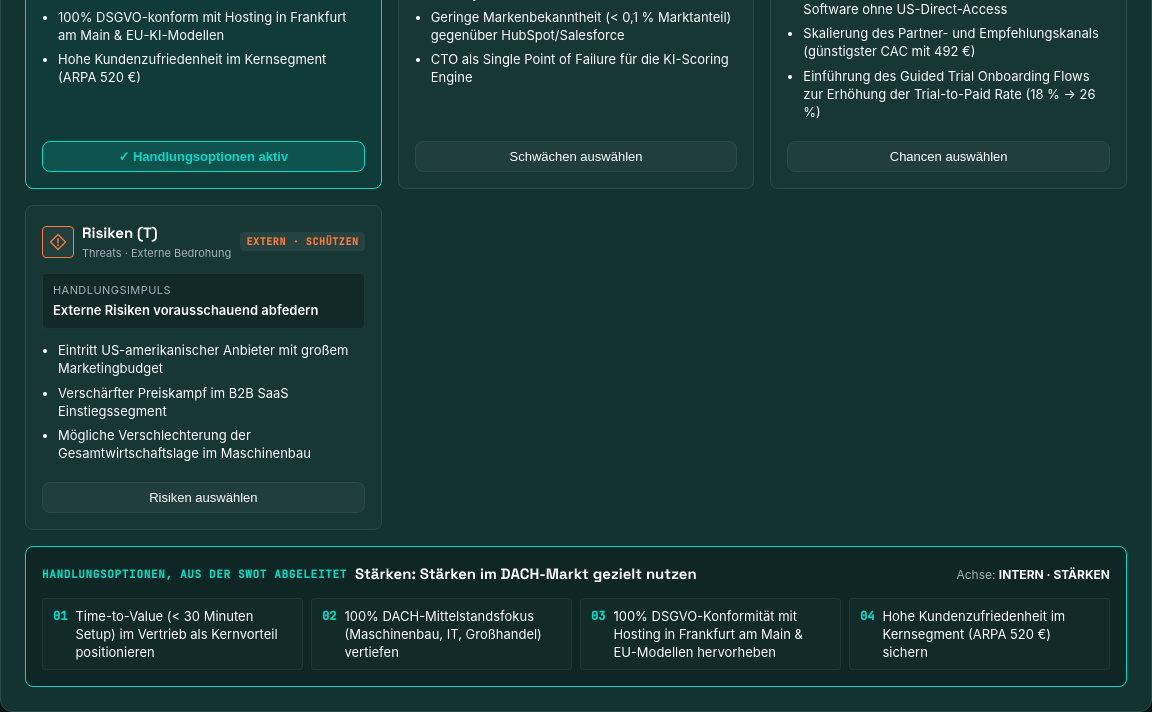
Scenario: SwotCompass (branch) › wechselt die Detailansicht zu Risiken
The width and height of the screenshot is (1152, 712).
(page scrolled)
Click the button with aria-label "Risiken Handlungsoptionen fokussieren".
click(203, 498)  # box x1=42 y1=482 x2=365 y2=513
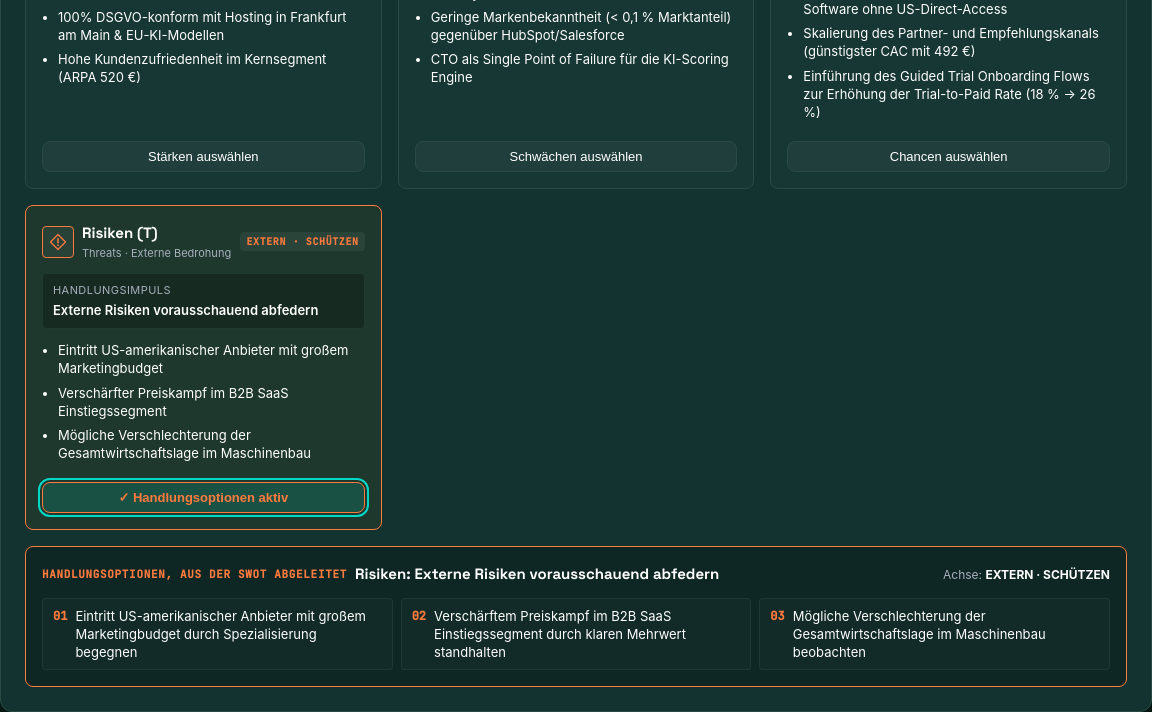
Expected: the text "Externe Risiken vorausschauend abfedern" is shown, x1=53 y1=301 x2=354 y2=320
Result: the text "Verschärftem Preiskampf im B2B SaaS Einstiegssegment durch klaren Mehrwert standhalten" is shown at x1=434 y1=608 x2=686 y2=660
